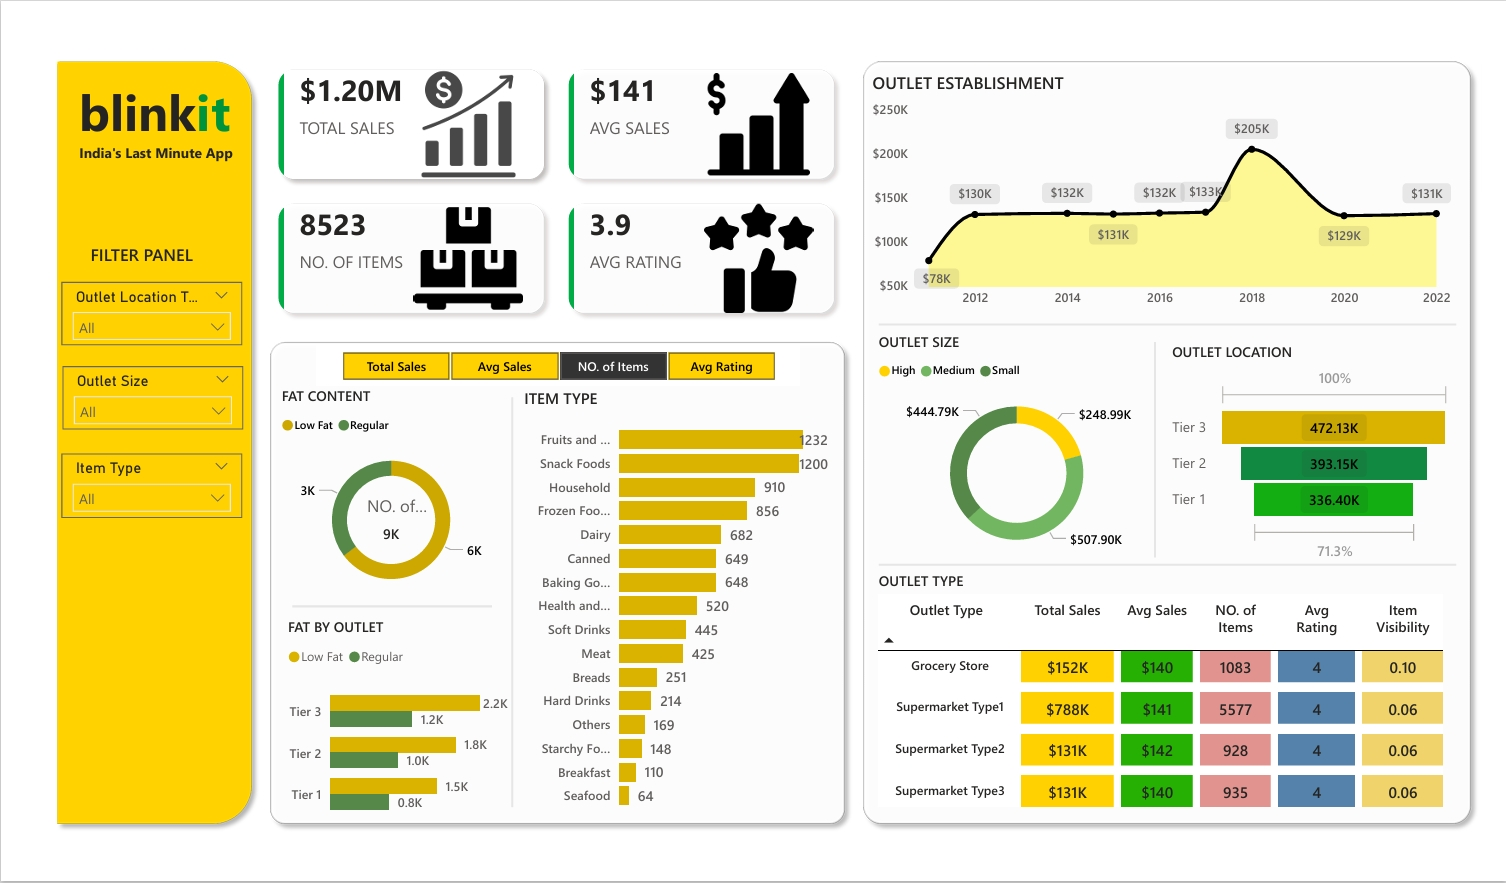

What the dashboard file says about the page in this screenshot:
{"tool":"powerbi","page":{"name":"Page 1","canvas":[1400,800],"ordinal":0},"visuals":[{"type":"shape","box":[21.5,26.5,205.4,750.2],"z":0},{"type":"textbox","box":[39.7,44.7,168.9,81.2],"z":1000},{"type":"textbox","box":[39.7,109.3,172.2,31.5],"z":2000},{"type":"cardVisual","fields":{"Data":["BlinkIT Grocery Data.Total Sales","BlinkIT Grocery Data.Avg Sales","BlinkIT Grocery Data.NO. of Items","BlinkIT Grocery Data.Avg Rating"]},"box":[226.9,26.5,569.7,270],"z":3000},{"type":"shape","box":[226.9,296.5,569.7,480.3],"z":4000},{"type":"donutChart","title":"FAT CONTENT","fields":{"Y":["BlinkIT Grocery Data.NO. of Items"],"Category":["BlinkIT Grocery Data.Item Fat Content"]},"box":[241.8,347.8,220.3,212],"z":5000},{"type":"slicer","fields":{"Values":["Metrics.Metrics"]},"box":[279.9,308,465.4,39],"z":6000},{"type":"cardVisual","fields":{"Data":["BlinkIT Grocery Data.NO. of Items"]},"box":[296.5,435.6,112.6,76.2],"z":7000},{"type":"clusteredBarChart","title":"FAT BY OUTLET","fields":{"Y":["BlinkIT Grocery Data.NO. of Items"],"Category":["BlinkIT Grocery Data.Outlet Location Type"],"Series":["BlinkIT Grocery Data.Item Fat Content"]},"box":[248.4,569.7,220.3,207],"z":8000},{"type":"shape","box":[256.7,548.2,192.1,21.5],"z":9000},{"type":"shape","box":[462.1,357.7,13.2,394.2],"z":10000},{"type":"barChart","title":"ITEM TYPE","fields":{"Y":["BlinkIT Grocery Data.NO. of Items"],"Category":["BlinkIT Grocery Data.Item Type"]},"box":[475.3,347.8,301.4,417.4],"z":11000},{"type":"shape","box":[796.6,26.5,602.8,750.2],"z":12000},{"type":"lineChart","title":"OUTLET ESTABLISHMENT","fields":{"Y":["BlinkIT Grocery Data.Total Sales"],"Category":["BlinkIT Grocery Data.Outlet Establishment Year"]},"box":[809.9,44.7,566.4,235.2],"z":13000},{"type":"donutChart","title":"OUTLET SIZE","fields":{"Y":["BlinkIT Grocery Data.Total Sales"],"Series":["BlinkIT Grocery Data.Outlet Size"]},"box":[816.5,296.5,274.9,225.2],"z":14000},{"type":"shape","box":[821.5,279.9,554.8,16.6],"z":15000},{"type":"funnel","title":"OUTLET LOCATION","fields":{"Y":["Sum(BlinkIT Grocery Data.Sales)"],"Category":["BlinkIT Grocery Data.Outlet Location Type"]},"box":[1098,304.7,278.2,215.3],"z":16000},{"type":"shape","box":[1079.8,304.7,13.2,207],"z":17000},{"type":"shape","box":[821.5,513.4,554.8,11.6],"z":18000},{"type":"pivotTable","title":"OUTLET TYPE","fields":{"Rows":["BlinkIT Grocery Data.Outlet Type"],"Values":["BlinkIT Grocery Data.Total Sales","BlinkIT Grocery Data.Avg Sales","BlinkIT Grocery Data.NO. of Items","BlinkIT Grocery Data.Avg Rating","Avg(BlinkIT Grocery Data.Item Visibility)"]},"box":[816.5,525,561.4,235.2],"z":19000},{"type":"slicer","fields":{"Values":["BlinkIT Grocery Data.Outlet Location Type"]},"box":[34.8,246.8,173.9,61.3],"z":20000},{"type":"slicer","fields":{"Values":["BlinkIT Grocery Data.Outlet Size"]},"box":[36.4,327.9,173.9,61.3],"z":21000},{"type":"slicer","fields":{"Values":["BlinkIT Grocery Data.Item Type"]},"box":[34.8,412.4,173.9,61.3],"z":22000},{"type":"textbox","box":[58,205.4,137.5,41.4],"z":23000}]}

Visuals, with their boxes in screenshot pixels (x1, y1, x2, y2), scaled from the page's 1400x800 canvas onto the 1506x883 screenshot:
shape: {"left": 23, "top": 29, "right": 244, "bottom": 857}
textbox: {"left": 43, "top": 49, "right": 224, "bottom": 139}
textbox: {"left": 43, "top": 121, "right": 228, "bottom": 155}
cardVisual - BlinkIT Grocery Data.Total Sales x BlinkIT Grocery Data.Avg Sales: {"left": 244, "top": 29, "right": 857, "bottom": 327}
shape: {"left": 244, "top": 327, "right": 857, "bottom": 857}
"FAT CONTENT" donutChart: {"left": 260, "top": 384, "right": 497, "bottom": 618}
slicer - Metrics.Metrics: {"left": 301, "top": 340, "right": 802, "bottom": 383}
cardVisual - BlinkIT Grocery Data.NO. of Items: {"left": 319, "top": 481, "right": 440, "bottom": 565}
"FAT BY OUTLET" clusteredBarChart: {"left": 267, "top": 629, "right": 504, "bottom": 857}
shape: {"left": 276, "top": 605, "right": 483, "bottom": 629}
shape: {"left": 497, "top": 395, "right": 511, "bottom": 830}
"ITEM TYPE" barChart: {"left": 511, "top": 384, "right": 836, "bottom": 845}
shape: {"left": 857, "top": 29, "right": 1505, "bottom": 857}
"OUTLET ESTABLISHMENT" lineChart: {"left": 871, "top": 49, "right": 1481, "bottom": 309}
"OUTLET SIZE" donutChart: {"left": 878, "top": 327, "right": 1174, "bottom": 576}
shape: {"left": 884, "top": 309, "right": 1481, "bottom": 327}
"OUTLET LOCATION" funnel: {"left": 1181, "top": 336, "right": 1480, "bottom": 574}
shape: {"left": 1162, "top": 336, "right": 1176, "bottom": 565}
shape: {"left": 884, "top": 567, "right": 1481, "bottom": 579}
"OUTLET TYPE" pivotTable: {"left": 878, "top": 579, "right": 1482, "bottom": 839}
slicer - BlinkIT Grocery Data.Outlet Location Type: {"left": 37, "top": 272, "right": 225, "bottom": 340}
slicer - BlinkIT Grocery Data.Outlet Size: {"left": 39, "top": 362, "right": 226, "bottom": 430}
slicer - BlinkIT Grocery Data.Item Type: {"left": 37, "top": 455, "right": 225, "bottom": 523}
textbox: {"left": 62, "top": 227, "right": 210, "bottom": 272}
